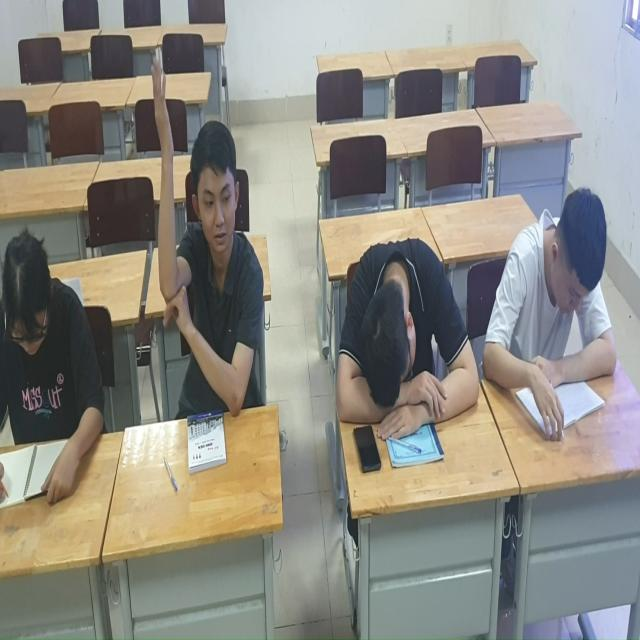raise_hand: (151, 49, 270, 422)
read: (487, 186, 625, 432), (2, 231, 106, 508)
sleep: (335, 236, 480, 435)
